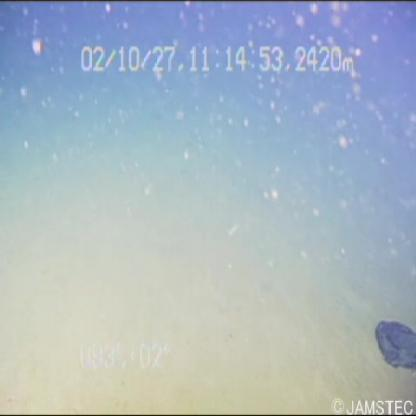Rác: (364, 311, 416, 378)
